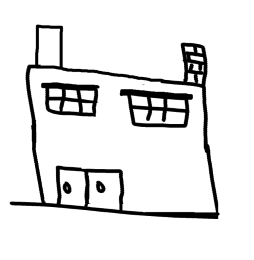chimney: (28, 22, 72, 72), (171, 34, 211, 88)
closed_window: (120, 87, 198, 138), (40, 78, 103, 123)
door: (43, 150, 130, 214)
single_line_roof: (10, 61, 223, 93)
wall: (20, 63, 229, 224)
